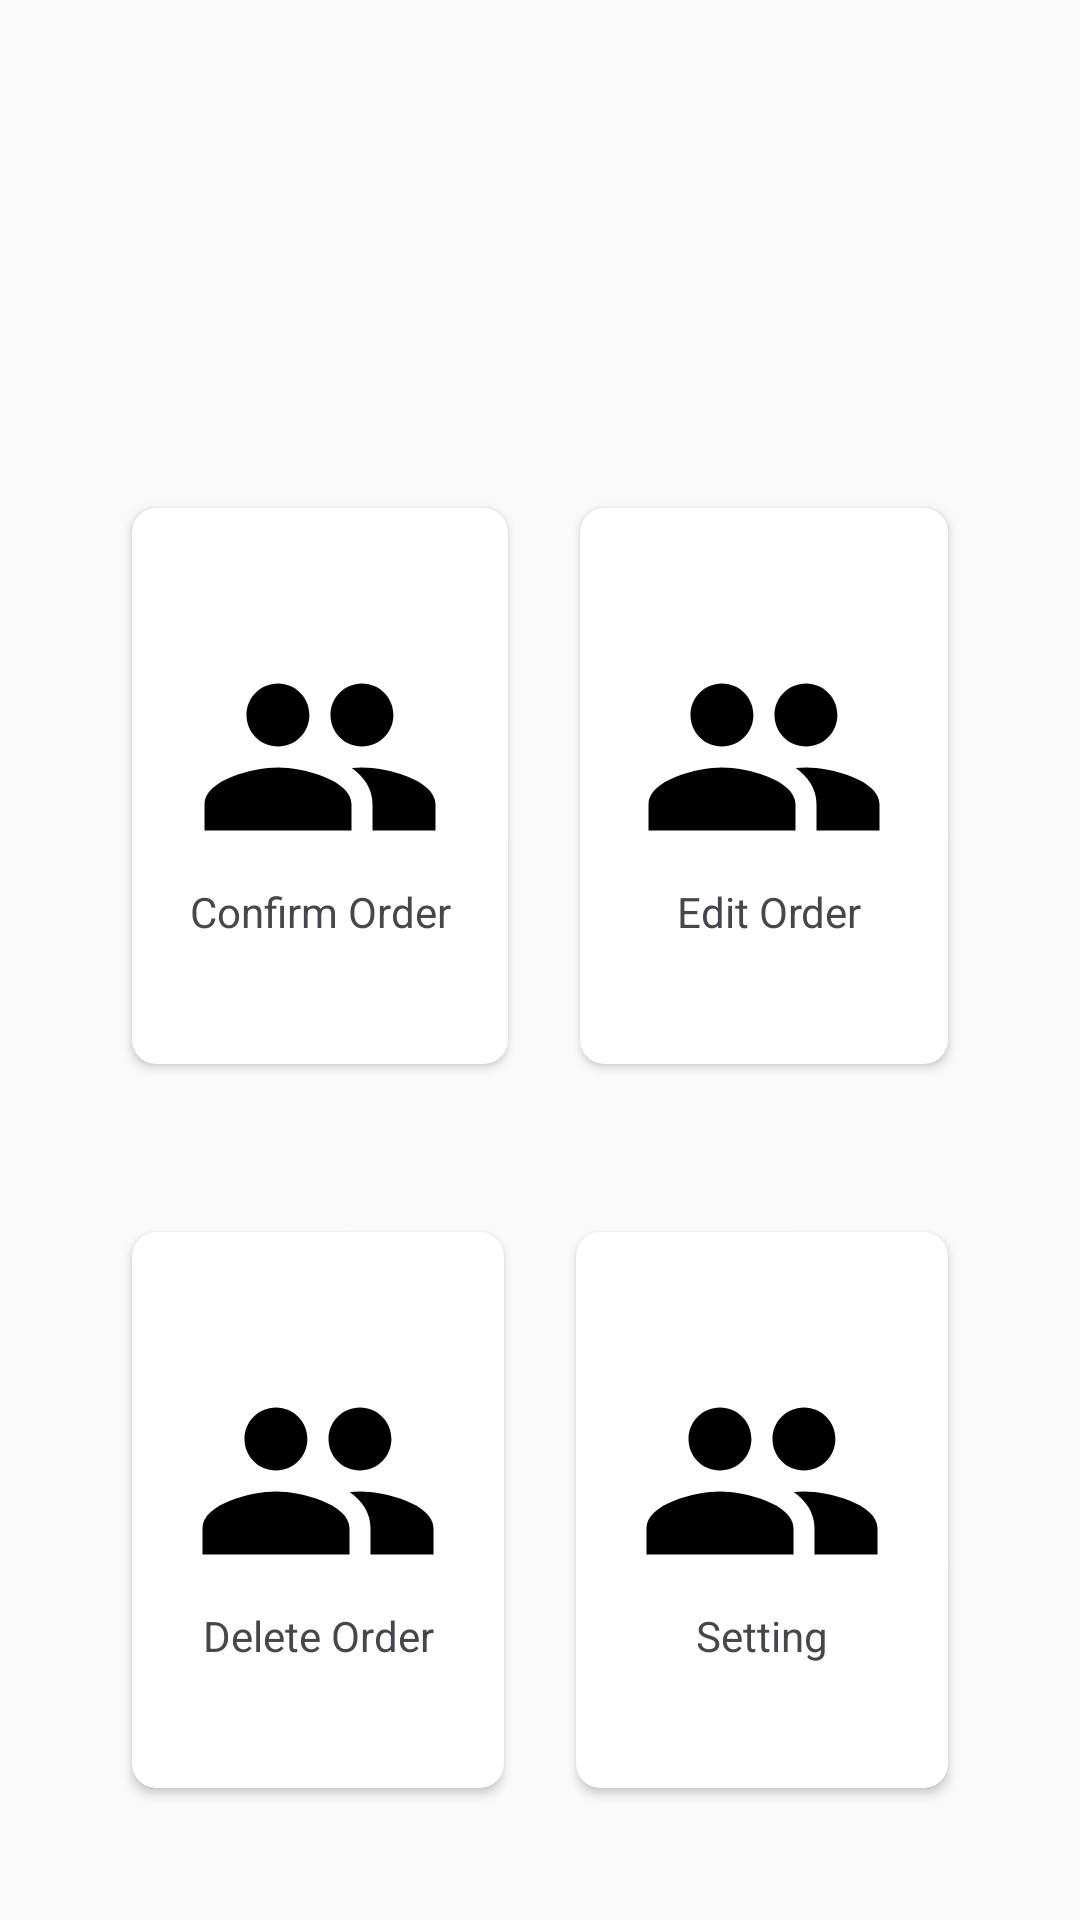

Screen size 1080 × 1920. Icon name, then its box in pixels as (x1, y1, x2, y2):
people: (204, 683, 436, 831), (648, 683, 880, 831), (202, 1407, 434, 1555), (646, 1407, 878, 1555)
